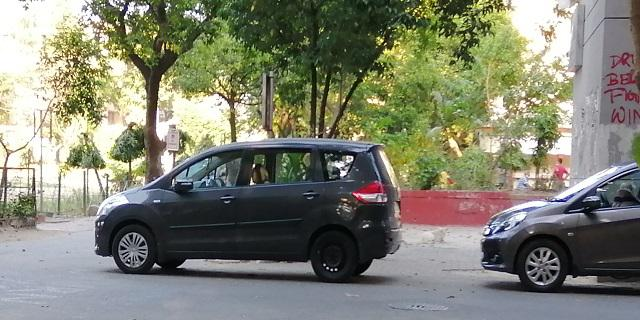Car: (90, 136, 407, 287), (473, 159, 640, 294)
